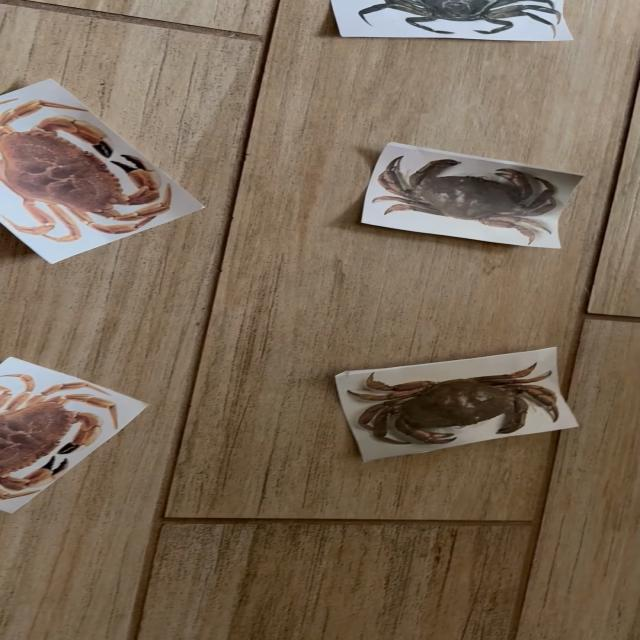egc: (331, 0, 572, 41)
